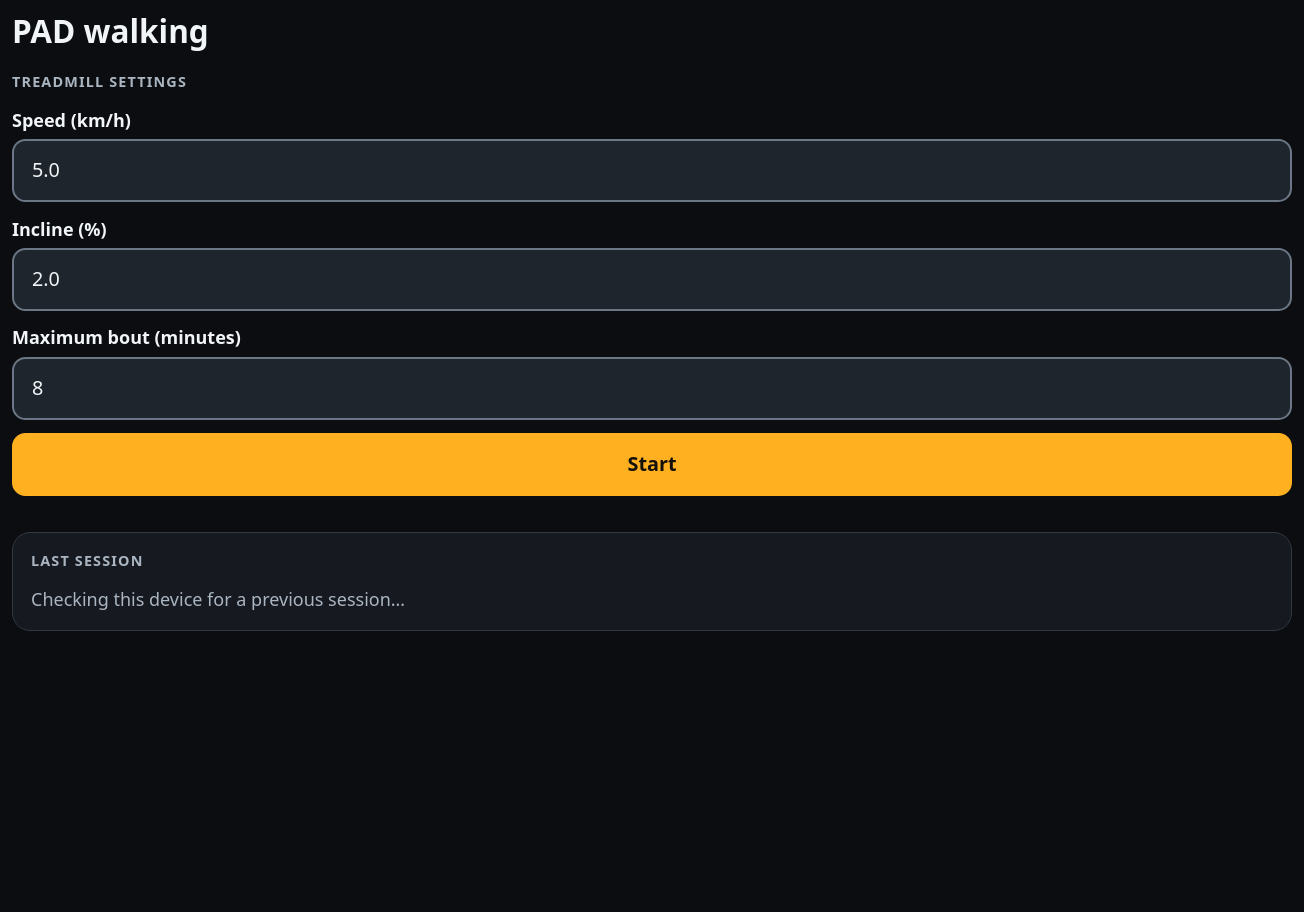
Test: PAD walking controls › ignores a second tap while the first start is still committing
Click the button "Start": click(652, 465) [12,433,1292,496]
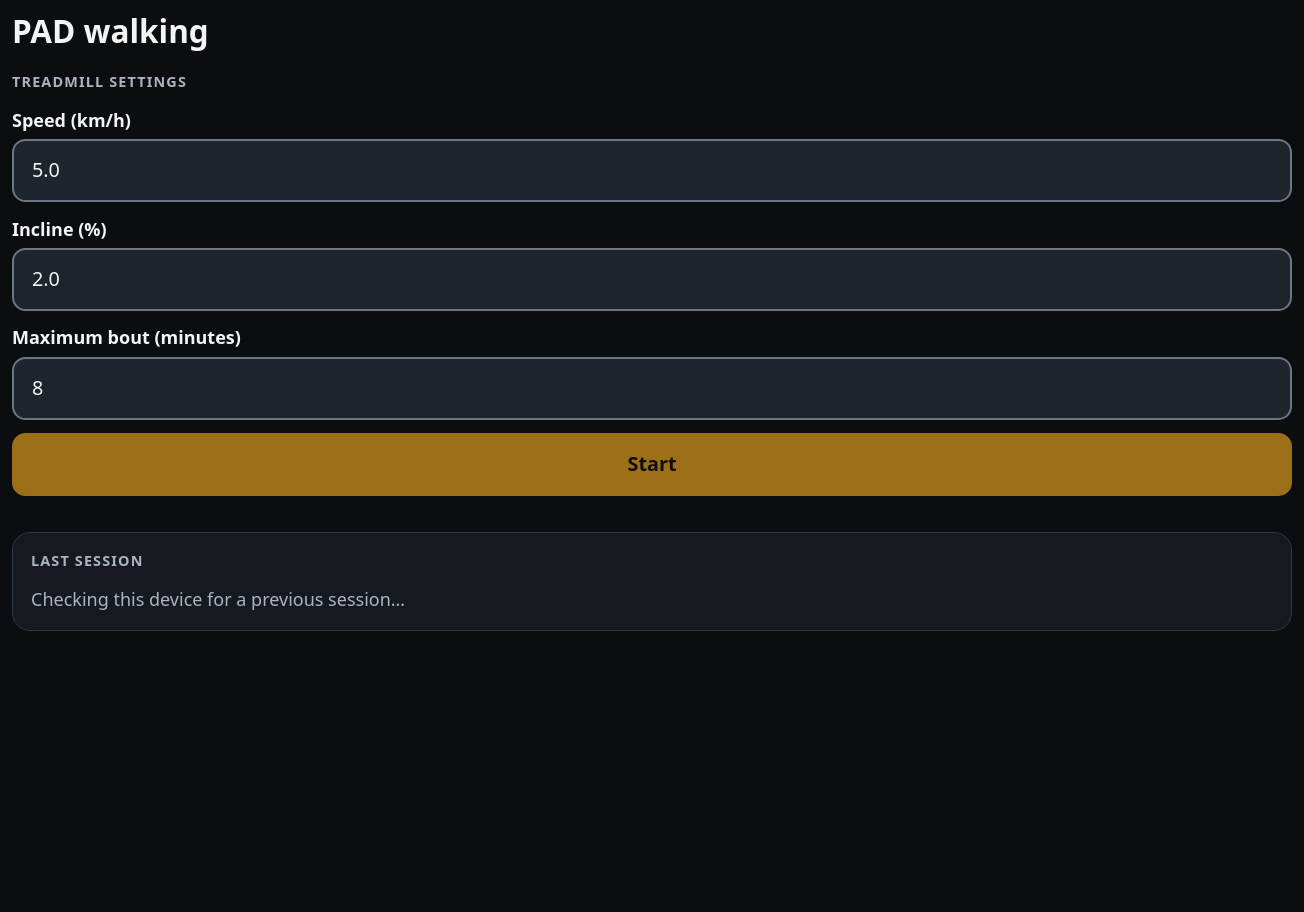
Click the button "Start": click(652, 465) [12,433,1292,496]
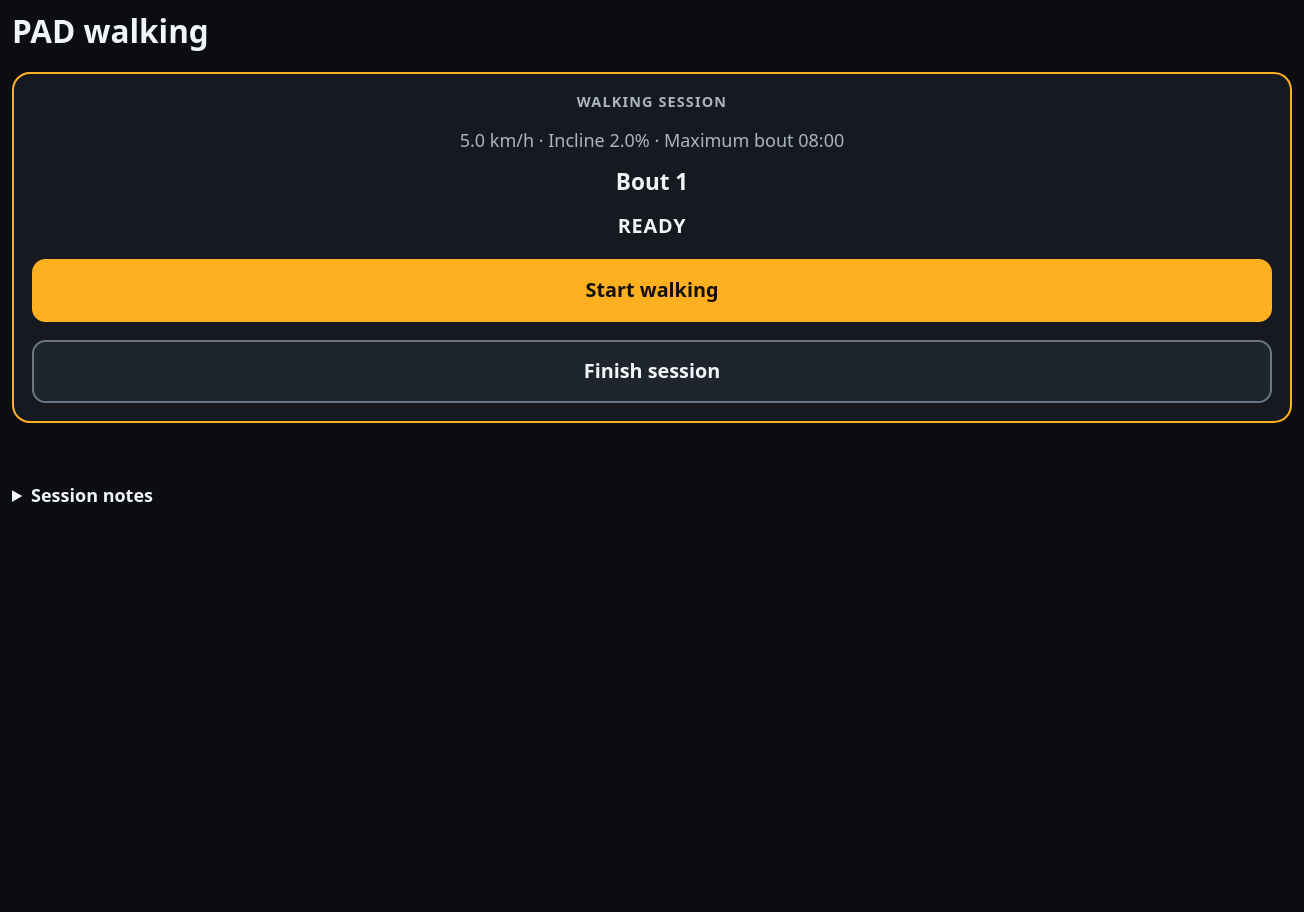
Check: the text "Ready" is shown, box [618,212,686,241]
